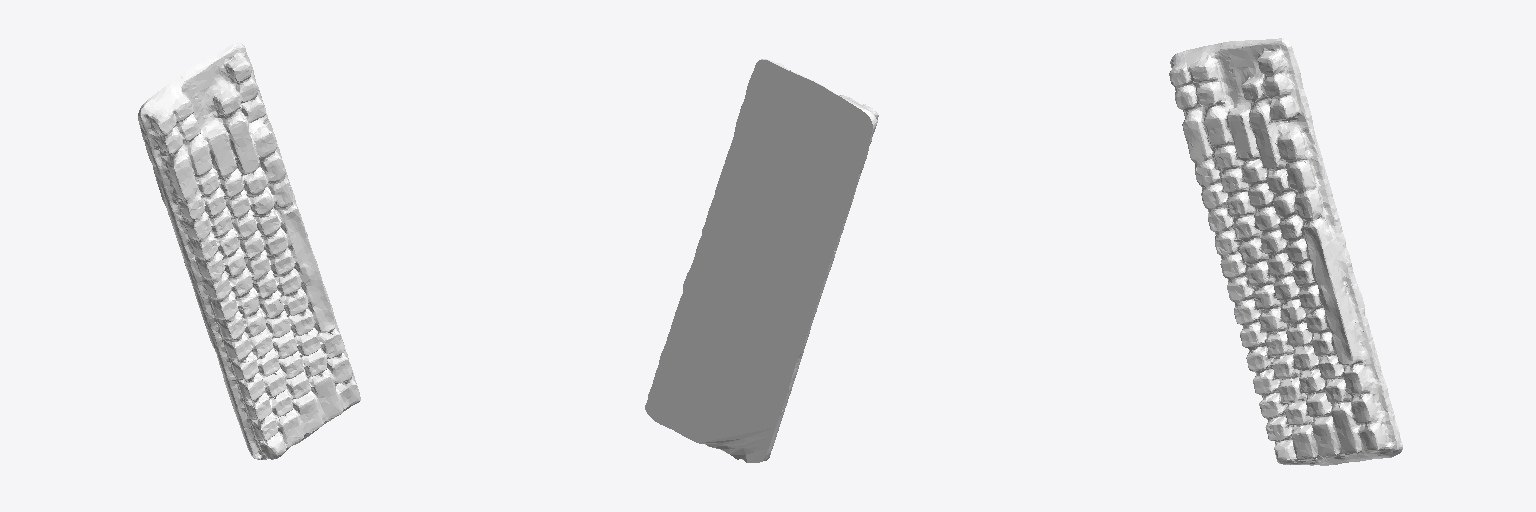
Rendered from Tastiera3.obj.
The picture shows the model from 3 angles: view 1: azimuth 30°, elevation 25°; view 2: azimuth 150°, elevation 25°; view 3: azimuth 330°, elevation 25°; orthographic projection.
Size of the model in its own units: 13.86 by 24.31 by 2.52.